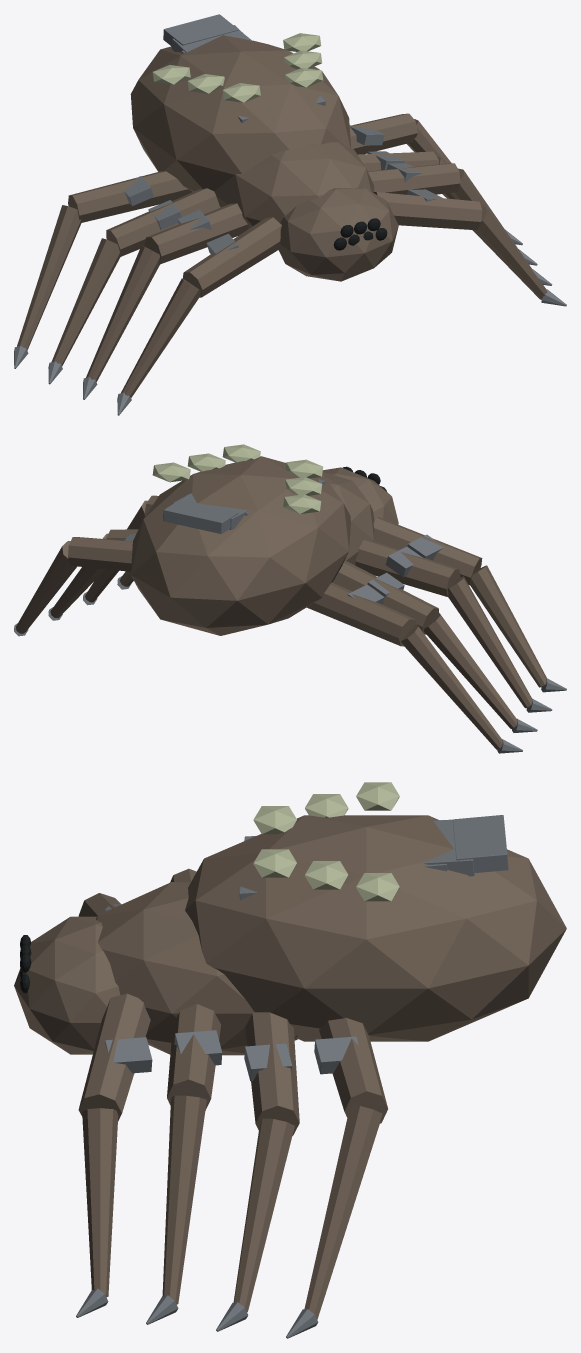
The model's file is shingleback.glb.
The picture shows the model from 3 angles, top to bottom: view 1: azimuth 30°, elevation 25°; view 2: azimuth 150°, elevation 25°; view 3: azimuth 270°, elevation 25°; orthographic projection. The views are drawn at different scales.
Visible parts, largest first — view 1: Abdomen, Head, Thorax, Leg -1 0 upper, Leg -1 3 upper, Leg -1 1 upper, Leg 1 0 upper, Leg -1 3 lower, Leg -1 1 lower, Leg -1 2 lower, Leg -1 0 lower, Leg -1 2 upper (+15 smaller); view 2: Abdomen, Leg -1 3 upper, Leg -1 1 upper, Leg -1 1 lower, Leg -1 3 lower, Leg -1 0 lower, Leg -1 2 lower, Leg -1 2 upper, Leg -1 0 upper, Leg 1 3 upper, Thorax, Overlapping roof shingle.007 (+13 smaller); view 3: Abdomen, Thorax, Head, Leg 1 1 lower, Leg 1 3 lower, Leg 1 0 lower, Leg 1 2 lower, Leg 1 0 upper, Leg 1 2 upper, Leg 1 3 upper, Leg 1 1 upper, Overlapping roof shingle.007 (+11 smaller).
Boxes of the visible parts, x1,y1,x2,y2 form: Abdomen: [130, 35, 350, 191]; Head: [278, 187, 398, 281]; Thorax: [214, 142, 374, 228]; Leg -1 0 upper: [182, 217, 281, 297]; Leg -1 3 upper: [68, 171, 192, 222]; Leg -1 1 upper: [144, 203, 248, 264]; Leg 1 0 upper: [373, 192, 482, 230]; Leg -1 3 lower: [17, 205, 81, 350]; Leg -1 1 lower: [86, 245, 159, 381]; Leg -1 2 lower: [51, 238, 120, 366]; Leg -1 0 lower: [121, 278, 200, 397]; Leg -1 2 upper: [106, 188, 220, 256]; Abdomen: [130, 456, 350, 635]; Leg -1 3 upper: [306, 582, 416, 646]; Leg -1 1 upper: [355, 539, 460, 596]; Leg -1 1 lower: [448, 576, 531, 708]; Leg -1 3 lower: [401, 624, 502, 749]; Leg -1 0 lower: [470, 565, 546, 687]; Leg -1 2 lower: [424, 613, 517, 728]; Leg -1 2 upper: [332, 560, 439, 634]; Leg -1 0 upper: [373, 517, 482, 585]; Leg 1 3 upper: [68, 537, 132, 571]; Thorax: [322, 472, 374, 565]; Overlapping roof shingle.007: [163, 499, 238, 533]; Abdomen: [185, 815, 566, 1041]; Thorax: [96, 882, 297, 1055]; Head: [14, 916, 120, 1054]; Leg 1 1 lower: [162, 1095, 206, 1304]; Leg 1 3 lower: [304, 1105, 382, 1319]; Leg 1 0 lower: [82, 1108, 118, 1297]; Leg 1 2 lower: [233, 1118, 294, 1312]; Leg 1 0 upper: [78, 993, 150, 1121]; Leg 1 2 upper: [245, 1012, 299, 1135]; Leg 1 3 upper: [319, 1017, 387, 1123]; Leg 1 1 upper: [167, 1004, 220, 1110]; Overlapping roof shingle.007: [452, 815, 508, 872].
Bounding box in the file's own units: 3.59 × 1.59 × 2.37.
